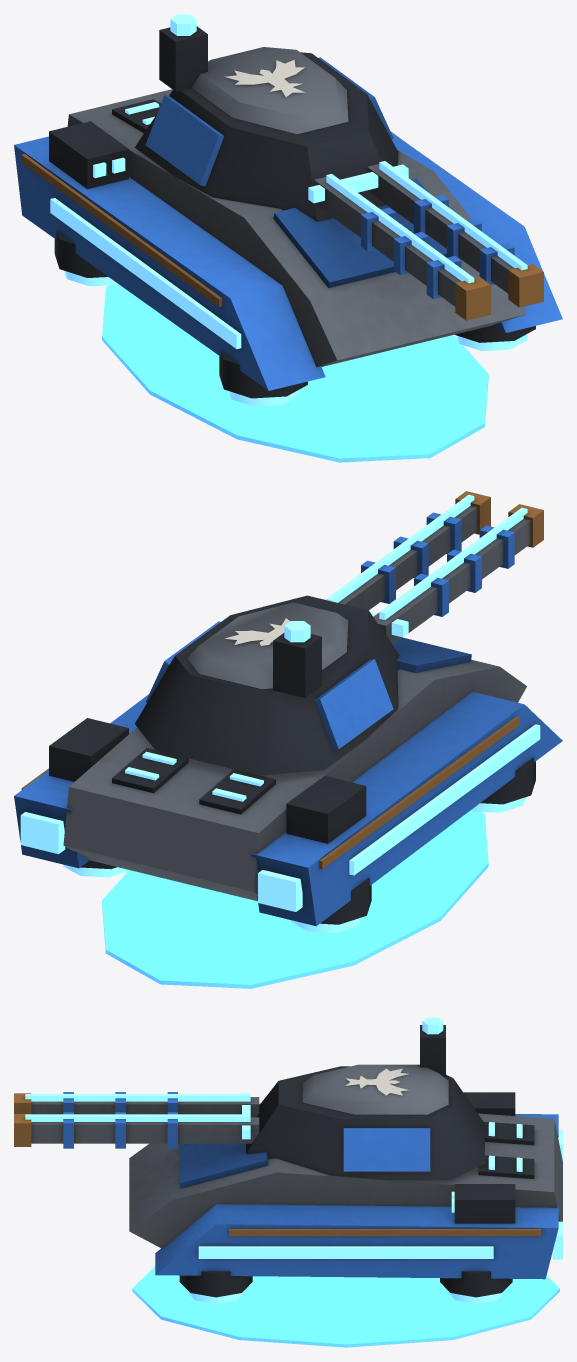
Rendered from assault_dl8_blue.glb.
3 renders of one model, top to bottom at view 1: azimuth 30°, elevation 25°; view 2: azimuth 150°, elevation 25°; view 3: azimuth 270°, elevation 25°, orthographic. The views are drawn at different scales.
Parts seen in each view (by area): view 1: assault_dl8_blue; view 2: assault_dl8_blue; view 3: assault_dl8_blue.
Part boxes in pixels (bbox=[...]): assault_dl8_blue: bbox=[14, 14, 562, 462]; assault_dl8_blue: bbox=[14, 491, 562, 988]; assault_dl8_blue: bbox=[14, 1017, 562, 1347].
Size of the model in its own units: 0.324 by 0.316 by 0.633.
Materials: 3 (1 with a texture image).
